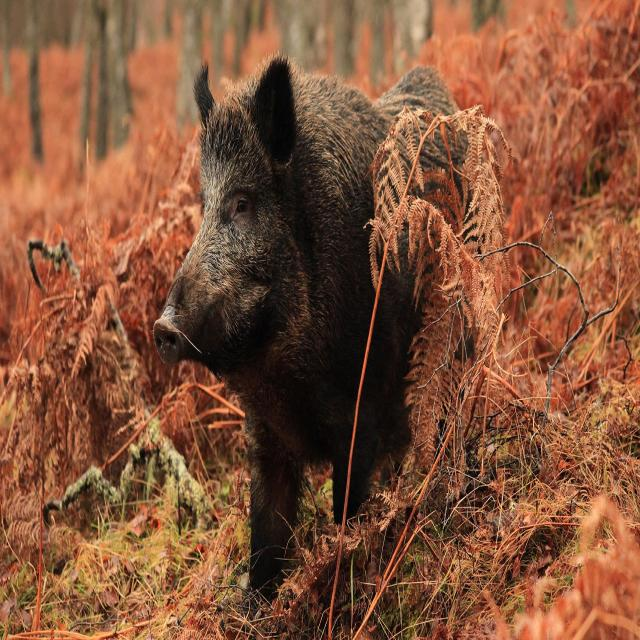Boar: (150, 67, 472, 586)
